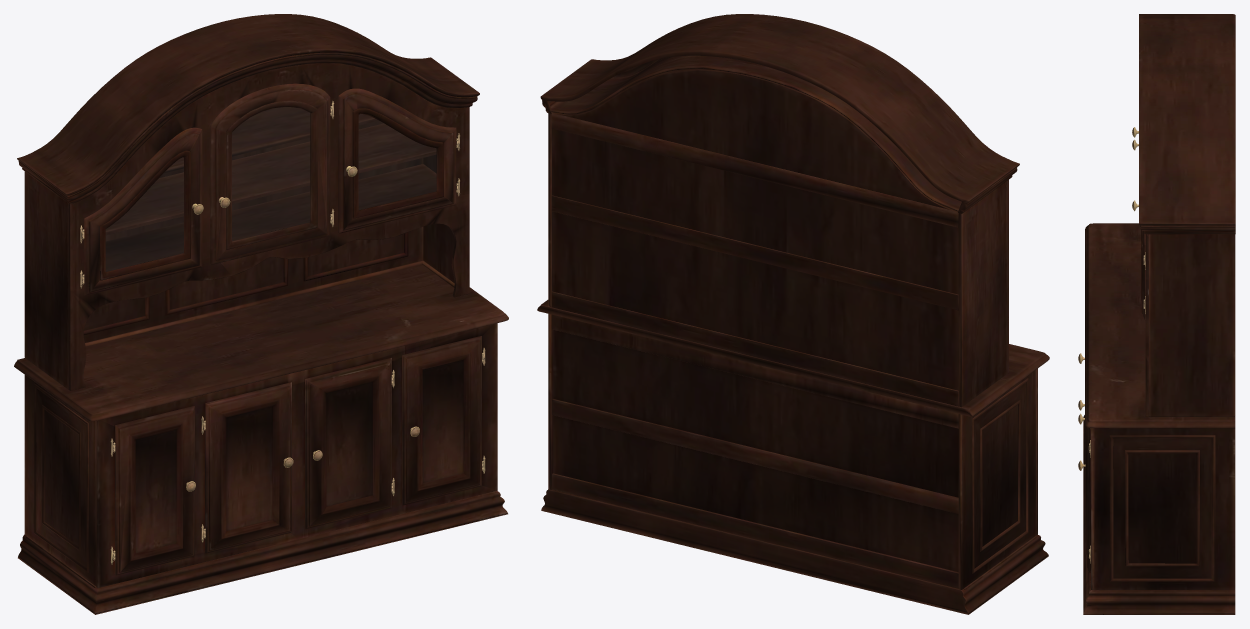
File: vintage_cabinet_01.glb
The picture shows the model from 3 angles, left to right: view 1: azimuth 30°, elevation 25°; view 2: azimuth 150°, elevation 25°; view 3: azimuth 270°, elevation 25°; orthographic projection. The views are drawn at different scales.
Visible parts, largest first — view 1: vintage_cabinet_01_body, vintage_cabinet_01_door_01; view 2: vintage_cabinet_01_body; view 3: vintage_cabinet_01_body.
Boxes of the visible parts, bbox=[...] form: vintage_cabinet_01_body: bbox=[14, 14, 508, 614]; vintage_cabinet_01_door_01: bbox=[106, 107, 436, 271]; vintage_cabinet_01_body: bbox=[537, 14, 1049, 614]; vintage_cabinet_01_body: bbox=[1078, 14, 1235, 614].
Bounding box in the file's own units: 2.02 × 2.24 × 0.6698.
3 materials, 2 textured.
